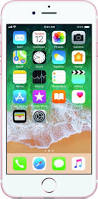iphone: (1, 1, 98, 199)
iphone6: (1, 1, 98, 199)
